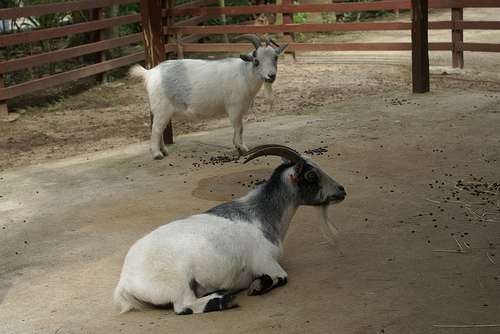goat: (112, 143, 347, 316), (126, 33, 290, 160)
